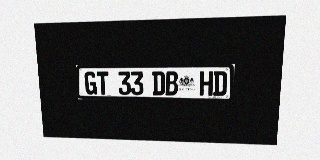3: (118, 71, 131, 95), (131, 71, 143, 95)
B: (165, 71, 178, 95)
D: (213, 71, 227, 96), (152, 71, 165, 95)
G: (84, 72, 97, 95)
H: (199, 71, 213, 96)
T: (96, 71, 109, 95)
